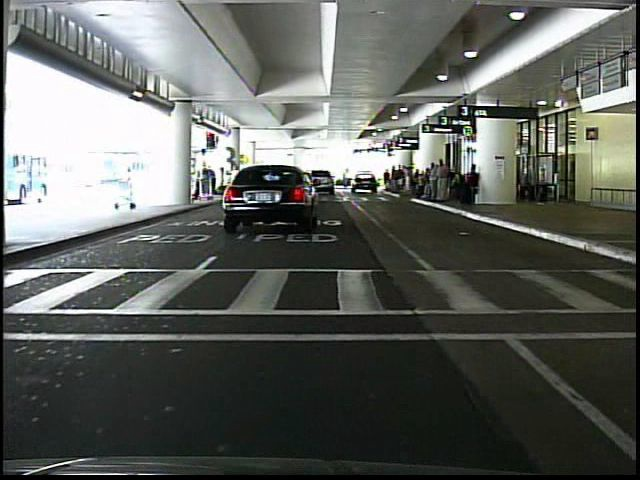person: (432, 154, 454, 207), (121, 164, 142, 210)
